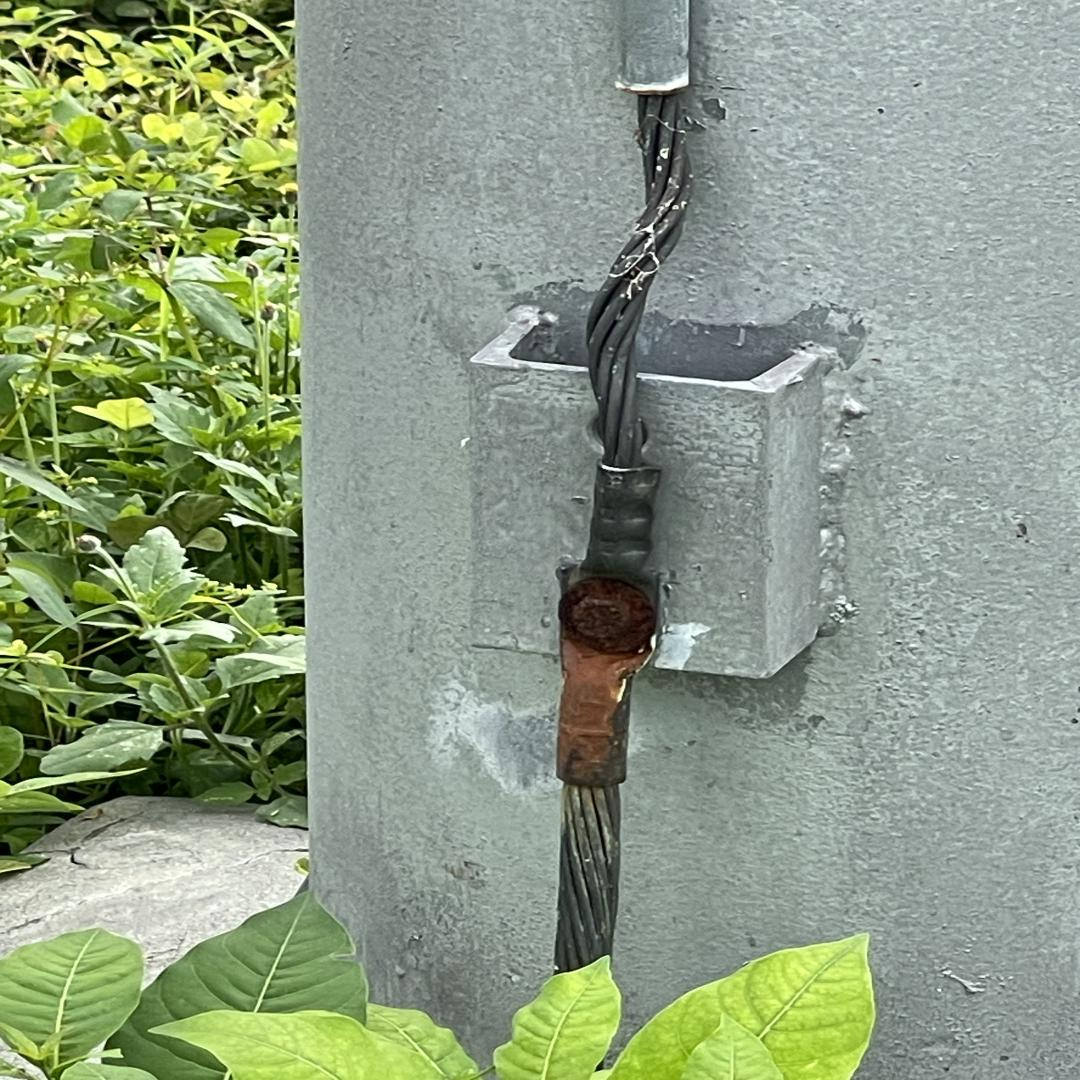Metal: (291, 0, 1080, 1080)
Metal corroido: (556, 578, 656, 789)
